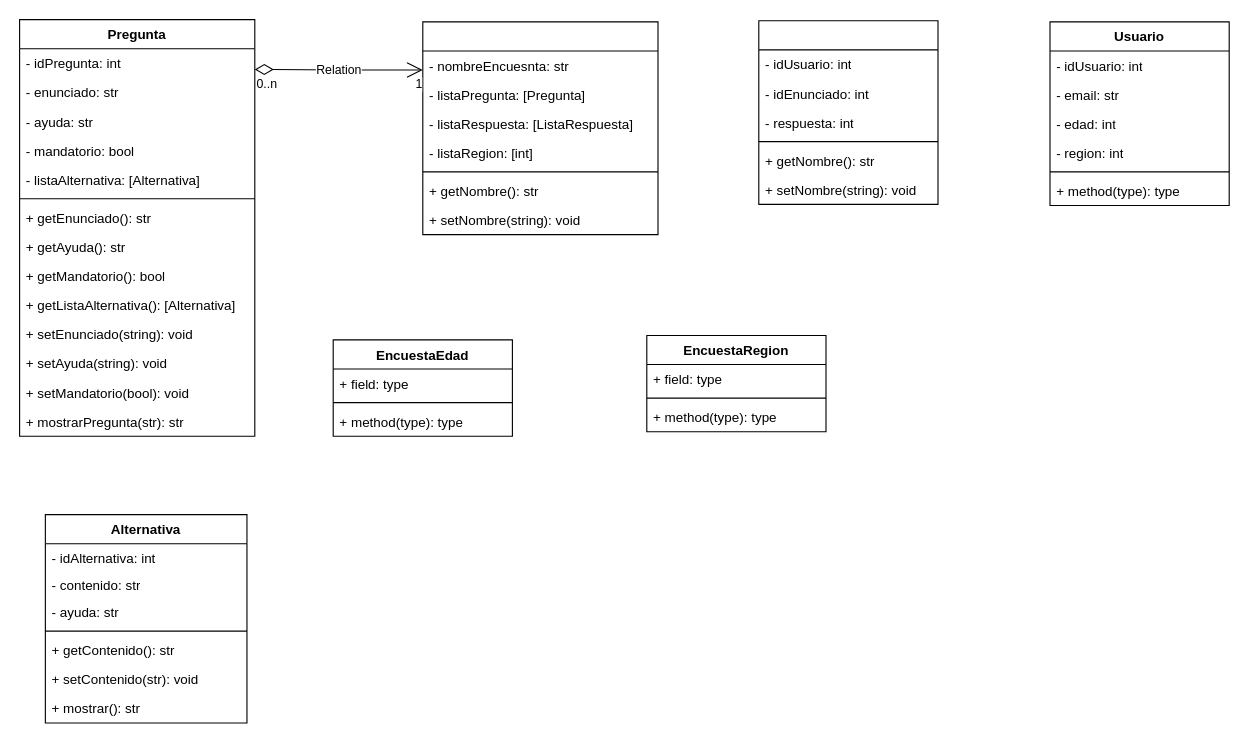
Image size: 1249x746. Some labels were removed from this diagram. The shapes that lost their labels are listed below. From the top down, each one's box as (x1, y1, x2, y2) in pixels, then its label:
(422, 21, 658, 235): Encuesta
(758, 20, 938, 204): ListaRespuesta
